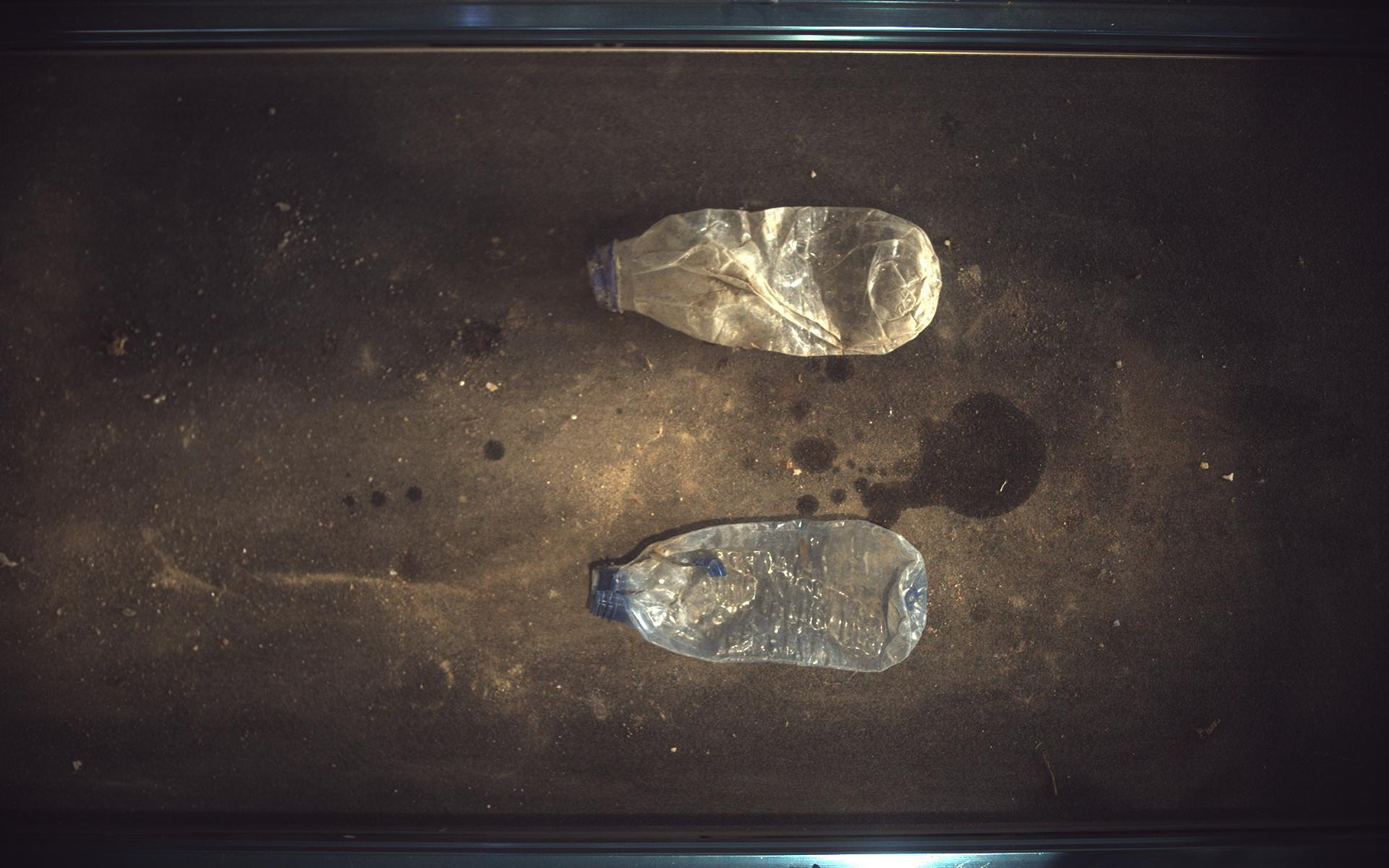general_w: (589, 206, 943, 356), (590, 519, 929, 673)
